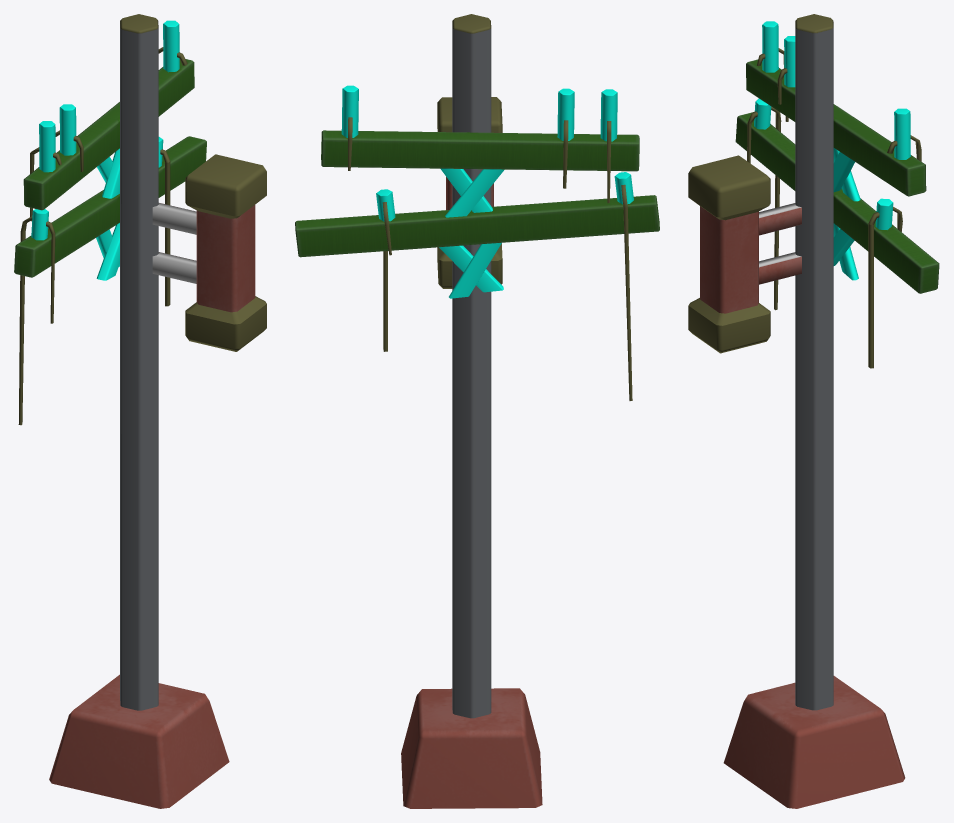
File: SM_Power_Pole_01.fbx
3 views of the same model, side by side, from view 1: azimuth 30°, elevation 25°; view 2: azimuth 150°, elevation 25°; view 3: azimuth 270°, elevation 25° (orthographic).
Visible parts, largest first — view 1: SM_Power_Pole_01; view 2: SM_Power_Pole_01; view 3: SM_Power_Pole_01.
Boxes of the visible parts, bbox=[...] form: SM_Power_Pole_01: bbox=[14, 14, 266, 808]; SM_Power_Pole_01: bbox=[295, 14, 659, 808]; SM_Power_Pole_01: bbox=[688, 14, 939, 808].
Bounding box in the file's own units: 104 × 81.99 × 270.
Materials: 1 (1 with a texture image).
